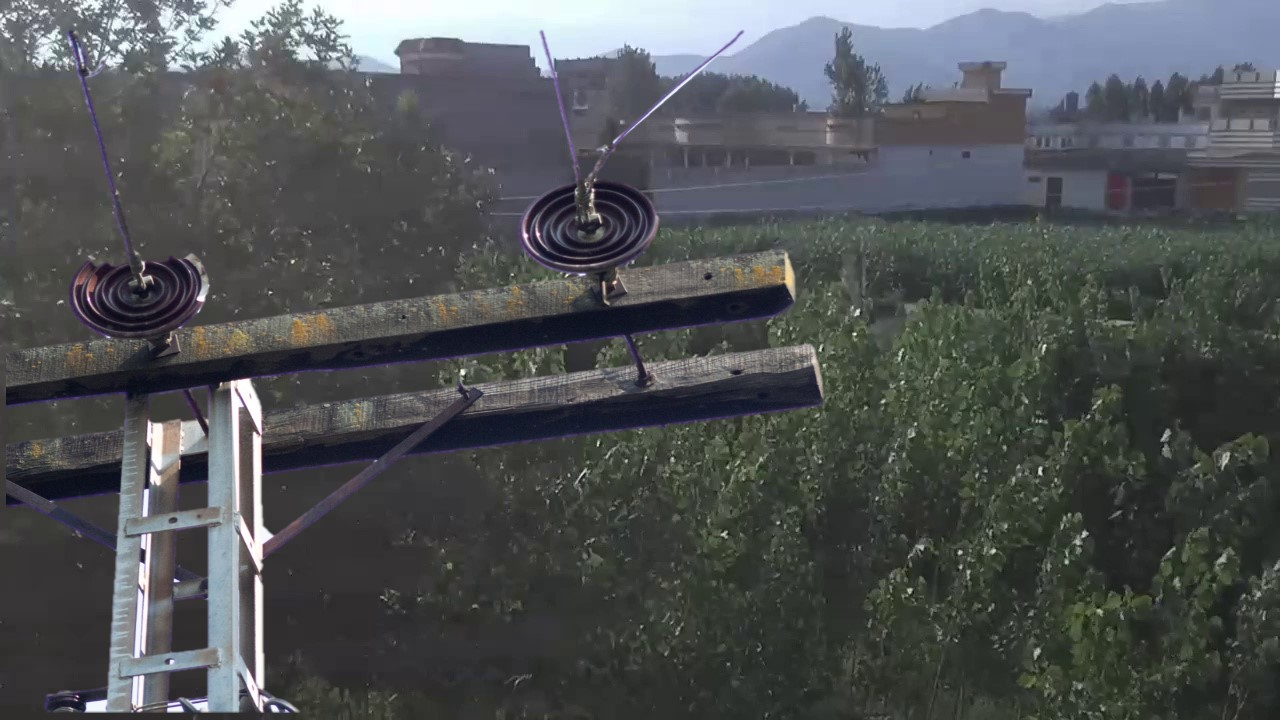defect_disc: (66, 247, 218, 342)
insulator_disc: (517, 175, 663, 273)
